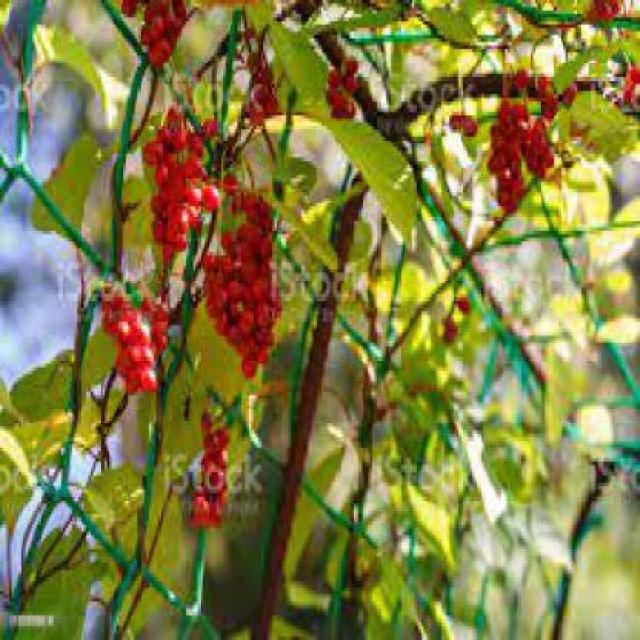RIPE: (209, 168, 285, 382), (136, 120, 210, 249), (88, 277, 172, 385), (491, 71, 543, 211), (194, 399, 235, 528)
